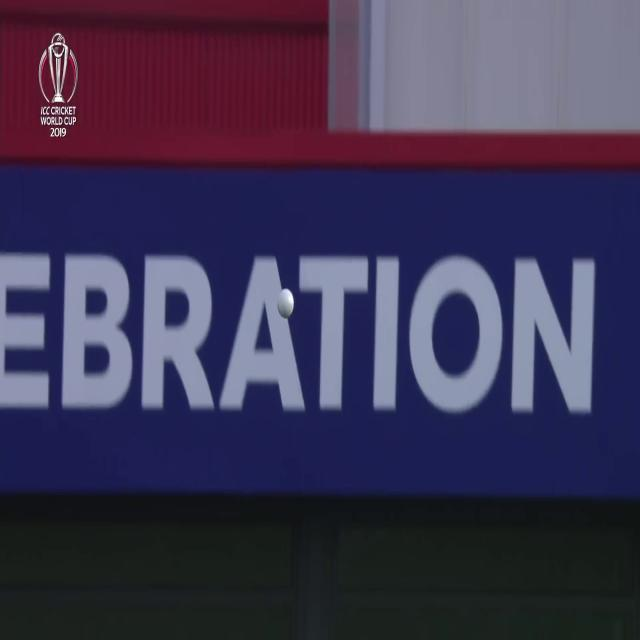ball: (273, 282, 301, 326)
